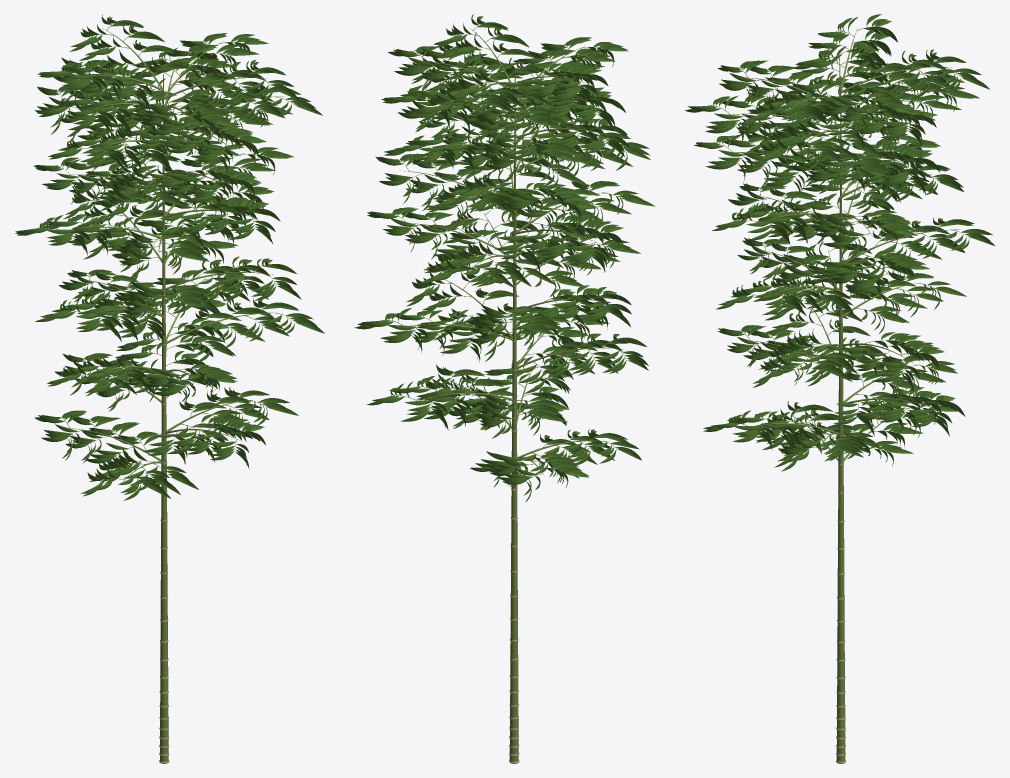
The model's file is bamboo2.glb.
3 renders of one model, left to right at view 1: azimuth 30°, elevation 25°; view 2: azimuth 150°, elevation 25°; view 3: azimuth 270°, elevation 25°, orthographic.
Visible parts, largest first — view 1: Bamboo_Original_Procedural; view 2: Bamboo_Original_Procedural; view 3: Bamboo_Original_Procedural.
Boxes of the visible parts, x1,y1,x2,y2 form: Bamboo_Original_Procedural: (15, 14, 324, 763); Bamboo_Original_Procedural: (354, 14, 655, 763); Bamboo_Original_Procedural: (685, 14, 995, 763).
Size of the model in its own units: 2.81 by 7.28 by 2.93.
